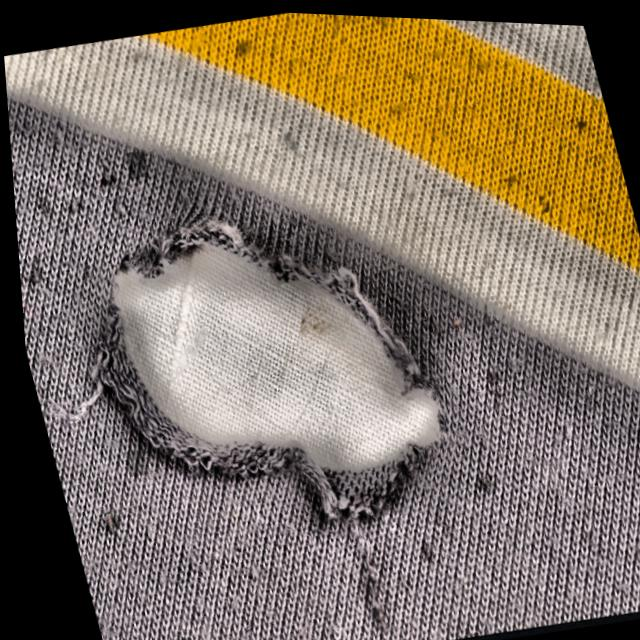Hole: (37, 173, 474, 610)
